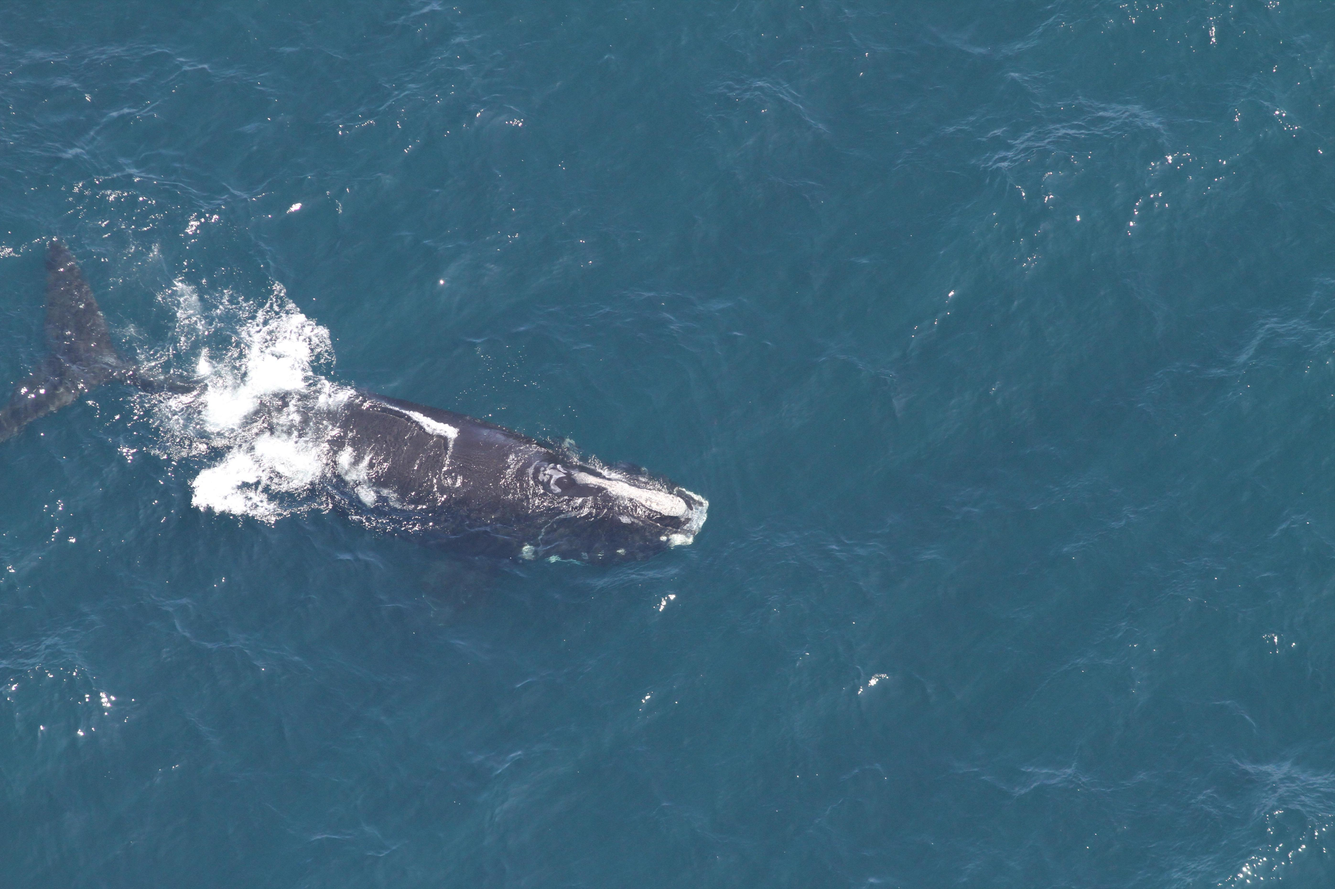whale: (0, 232, 721, 641)
